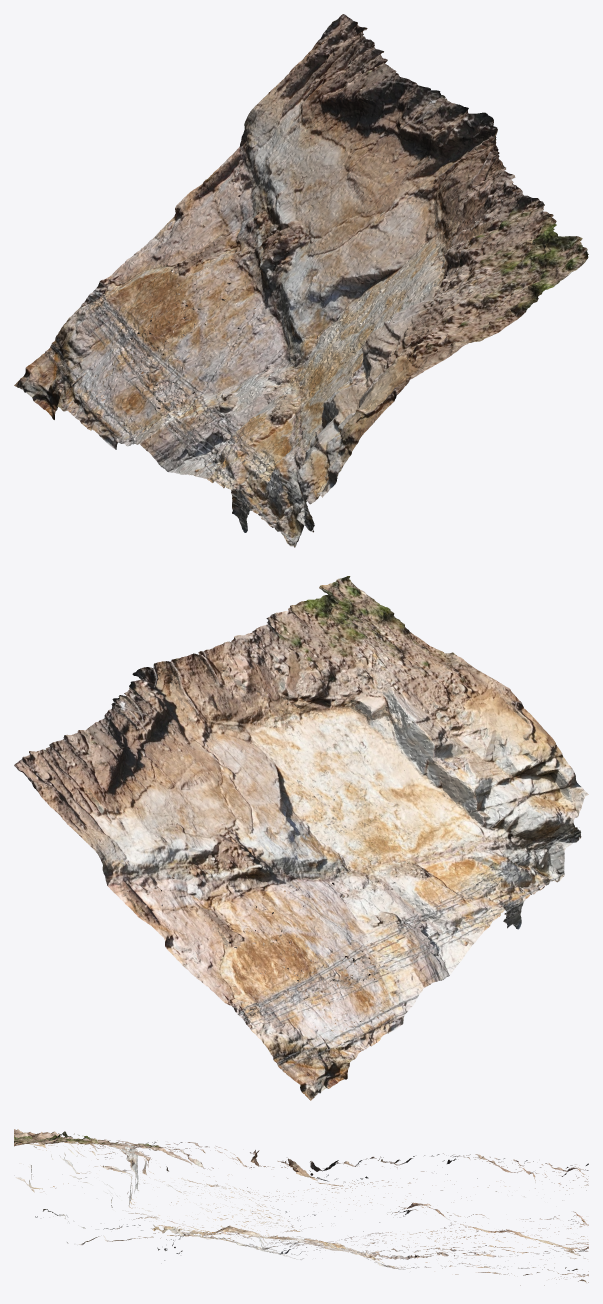
3 views of the same model, one above another, from view 1: azimuth 30°, elevation 25°; view 2: azimuth 150°, elevation 25°; view 3: azimuth 270°, elevation 25° (orthographic). The views are drawn at different scales.
Size of the model in its own units: 9.57 by 8.09 by 15.26.
2 materials, 2 textured.
